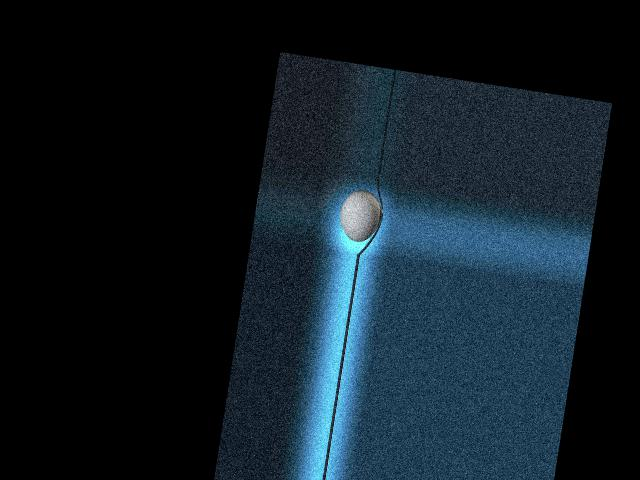egg: (337, 187, 384, 244)
